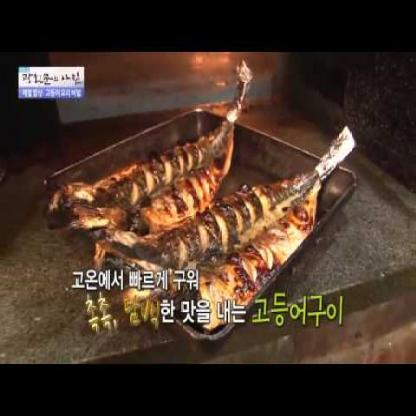Peixe: (113, 129, 358, 330), (62, 68, 264, 258)
